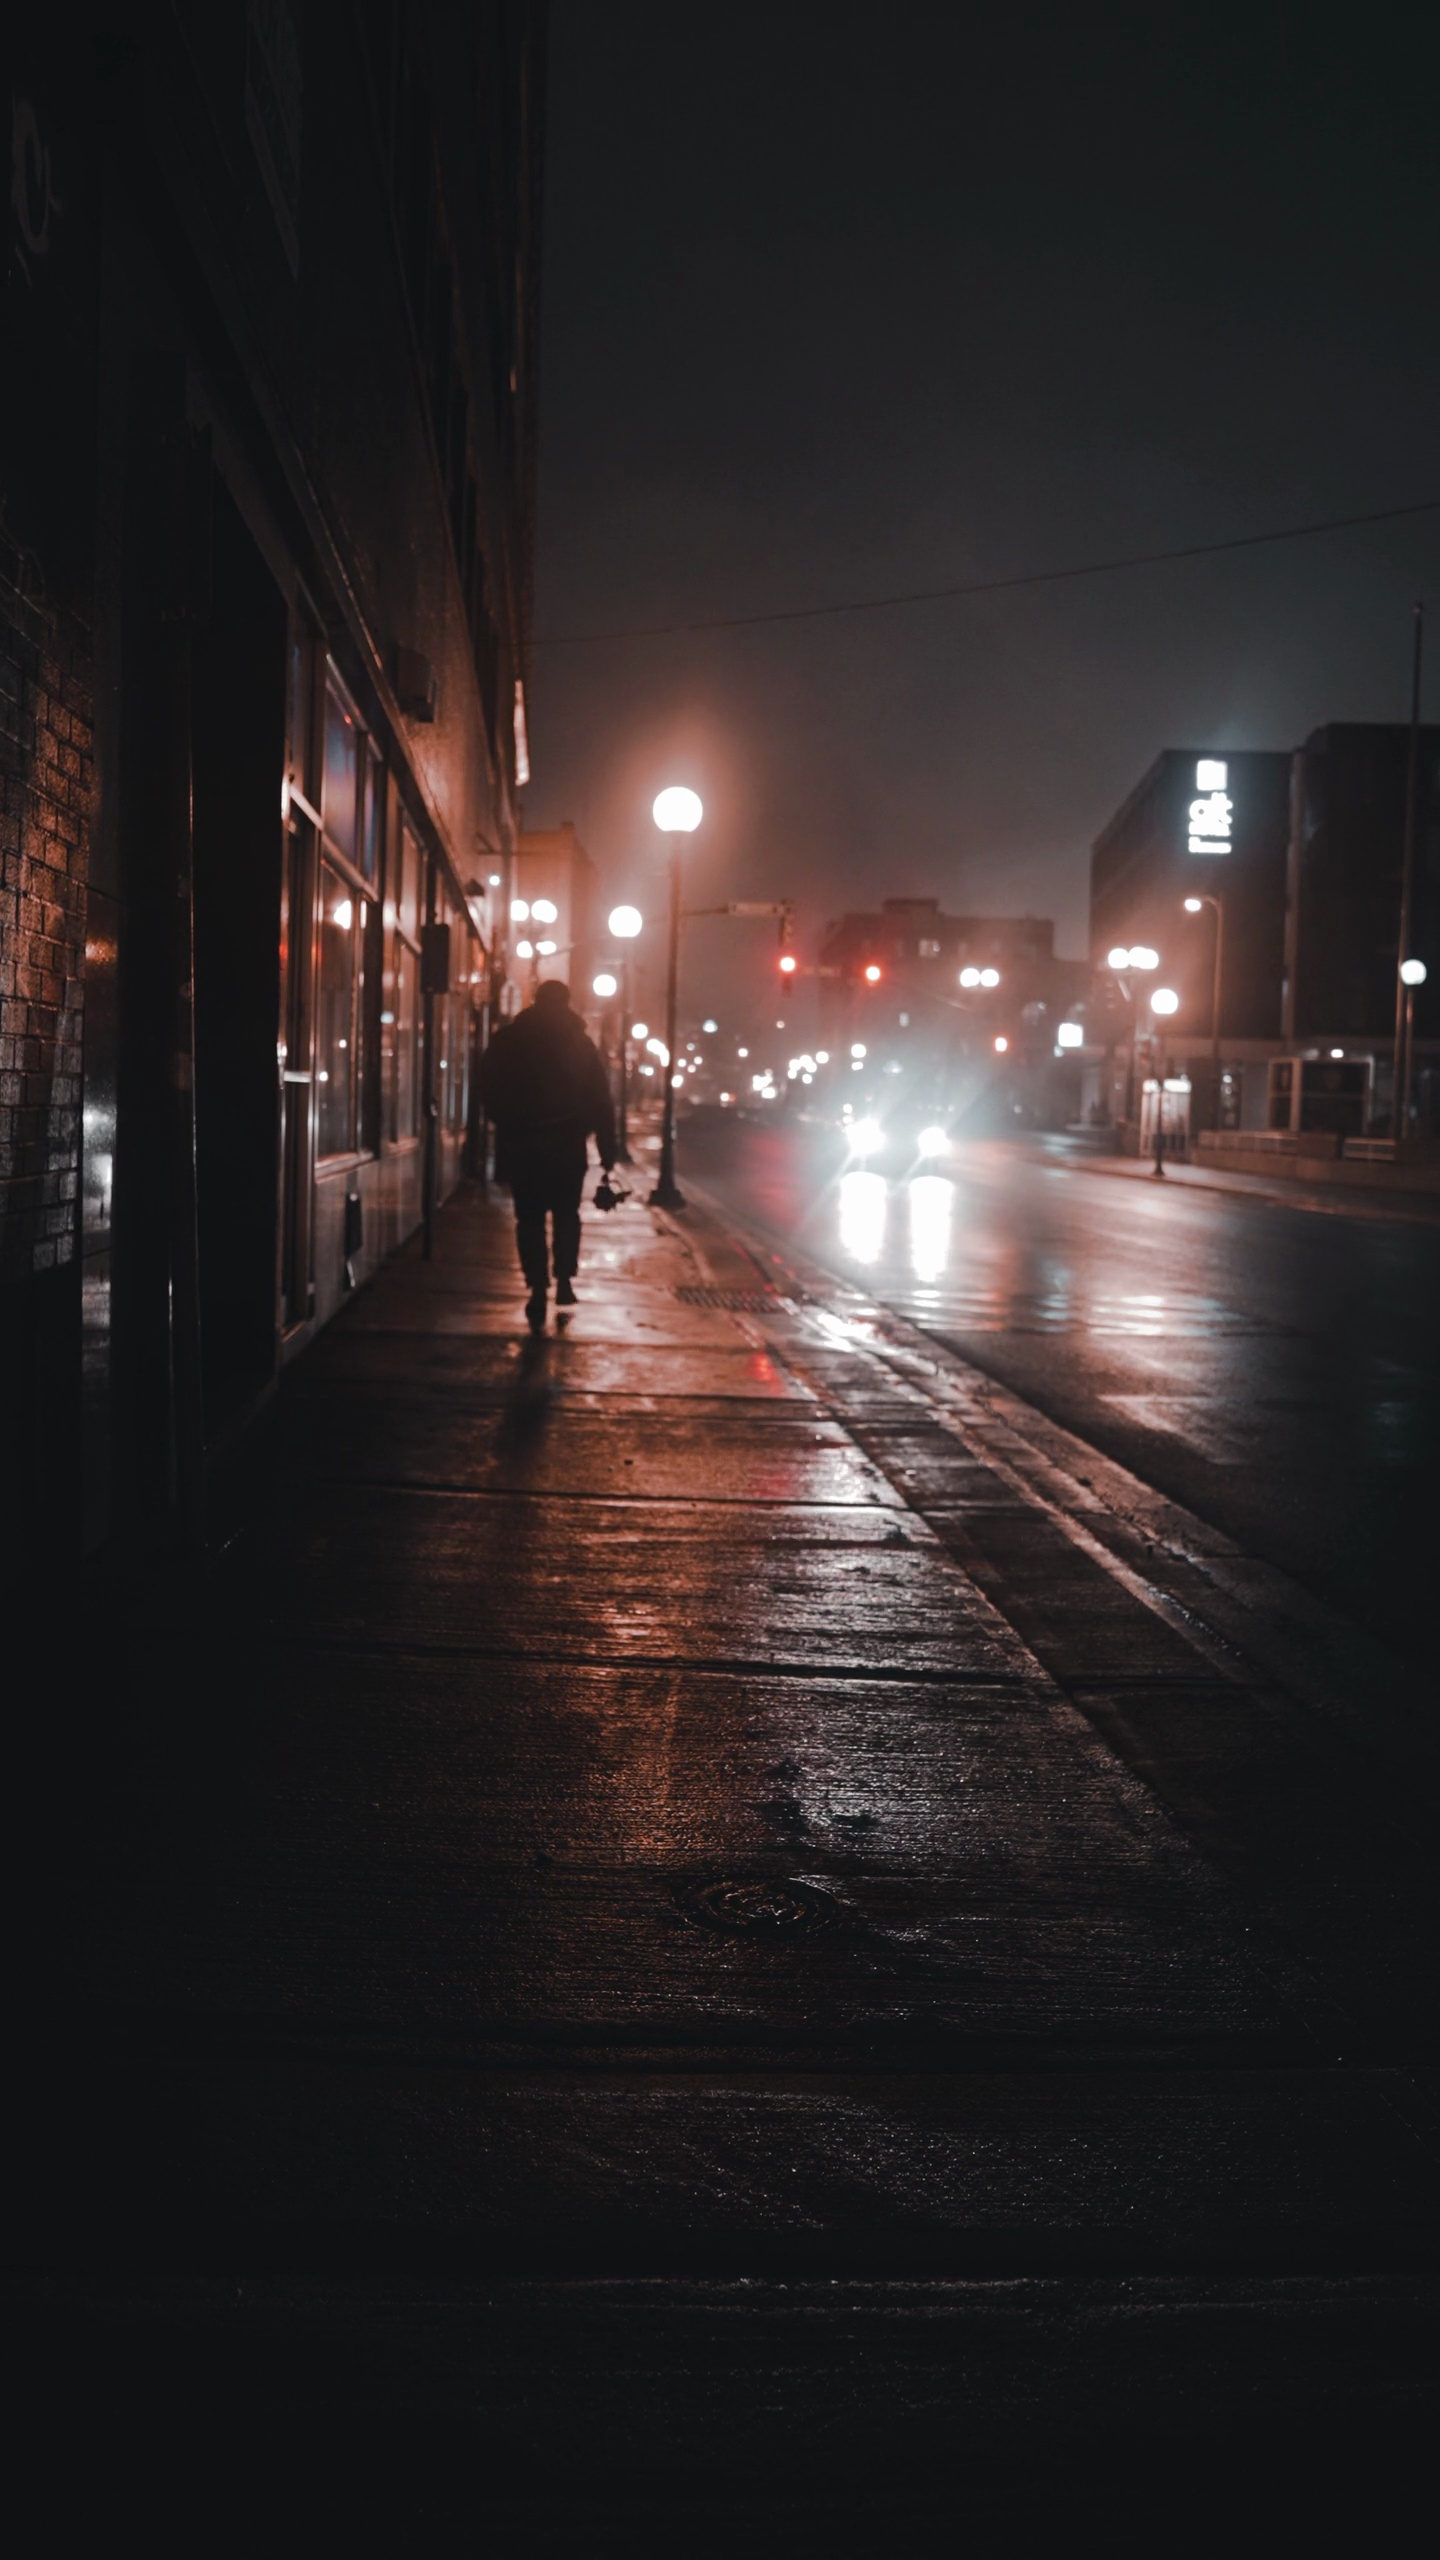person: (469, 984, 626, 1316)
